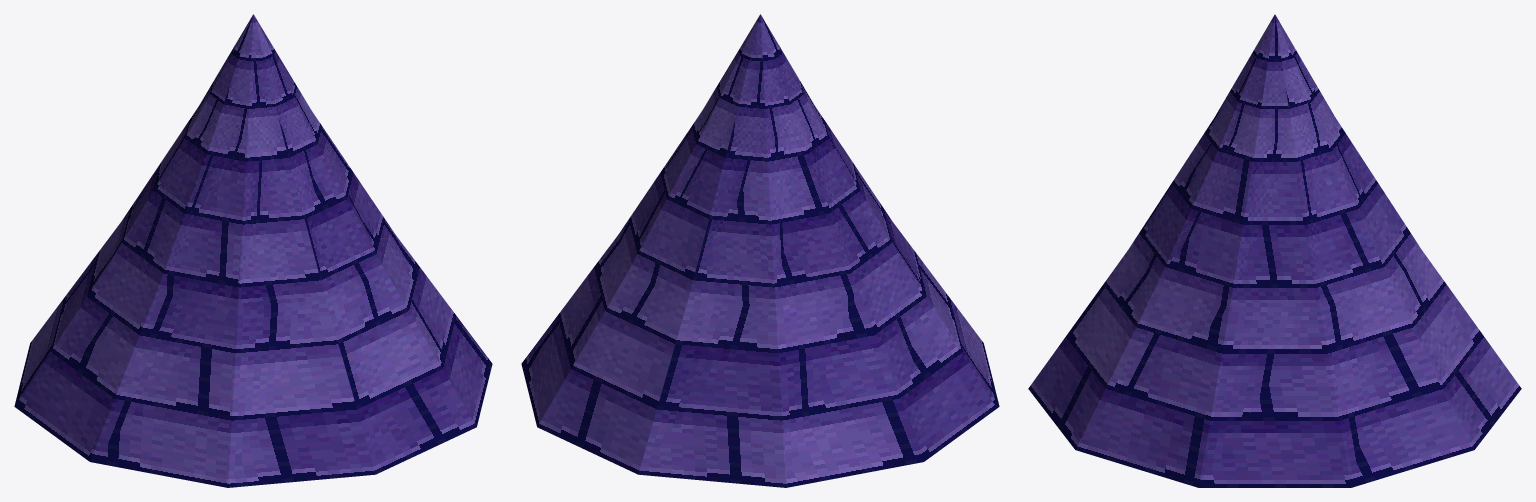
Rendered from telhado_03_torre_do_mago.glb.
The picture shows the model from 3 angles, left to right: view 1: azimuth 30°, elevation 25°; view 2: azimuth 150°, elevation 25°; view 3: azimuth 270°, elevation 25°; orthographic projection.
Visible parts, largest first — view 1: telhado_03_torre_do_mago; view 2: telhado_03_torre_do_mago; view 3: telhado_03_torre_do_mago.
Boxes of the visible parts, x1,y1,x2,y2 form: telhado_03_torre_do_mago: [14, 14, 492, 487]; telhado_03_torre_do_mago: [521, 14, 999, 487]; telhado_03_torre_do_mago: [1028, 14, 1521, 487].
Size of the model in its own units: 3.52 by 3.1 by 3.7.
1 material, 1 textured.
